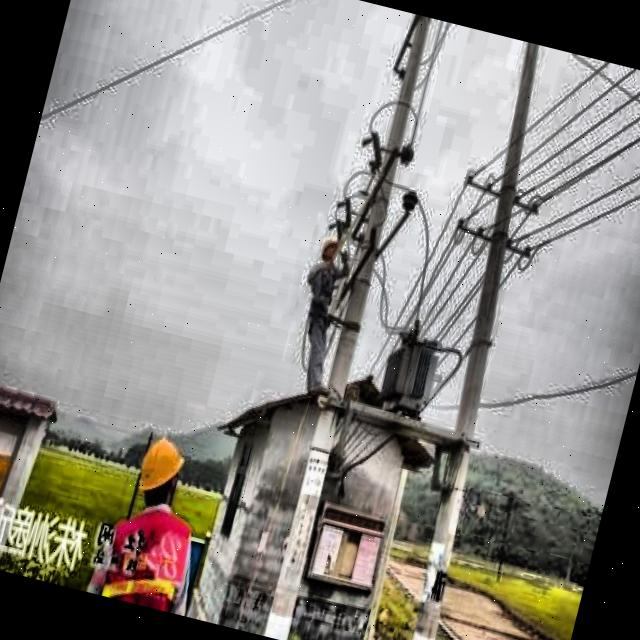helmet: (126, 426, 194, 515), (313, 232, 341, 268)
